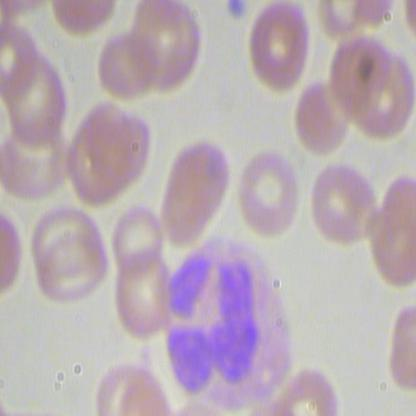RBC: (155, 135, 235, 255), (60, 98, 135, 206), (234, 147, 305, 248), (244, 1, 311, 95), (113, 245, 172, 343), (33, 231, 109, 307), (311, 163, 378, 246), (95, 21, 160, 101), (372, 172, 415, 291), (292, 75, 352, 159), (110, 203, 168, 270)
WBC: (157, 231, 297, 408)
